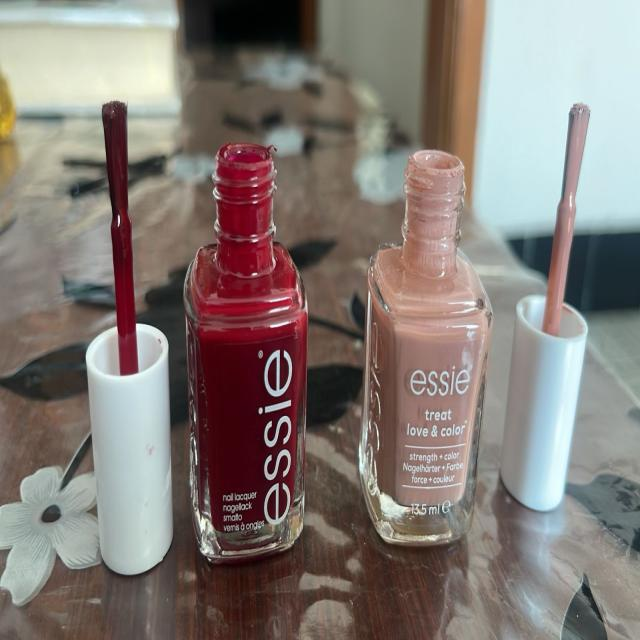nail polish: (180, 123, 324, 562), (359, 135, 497, 566), (79, 70, 174, 595), (502, 92, 610, 544)
